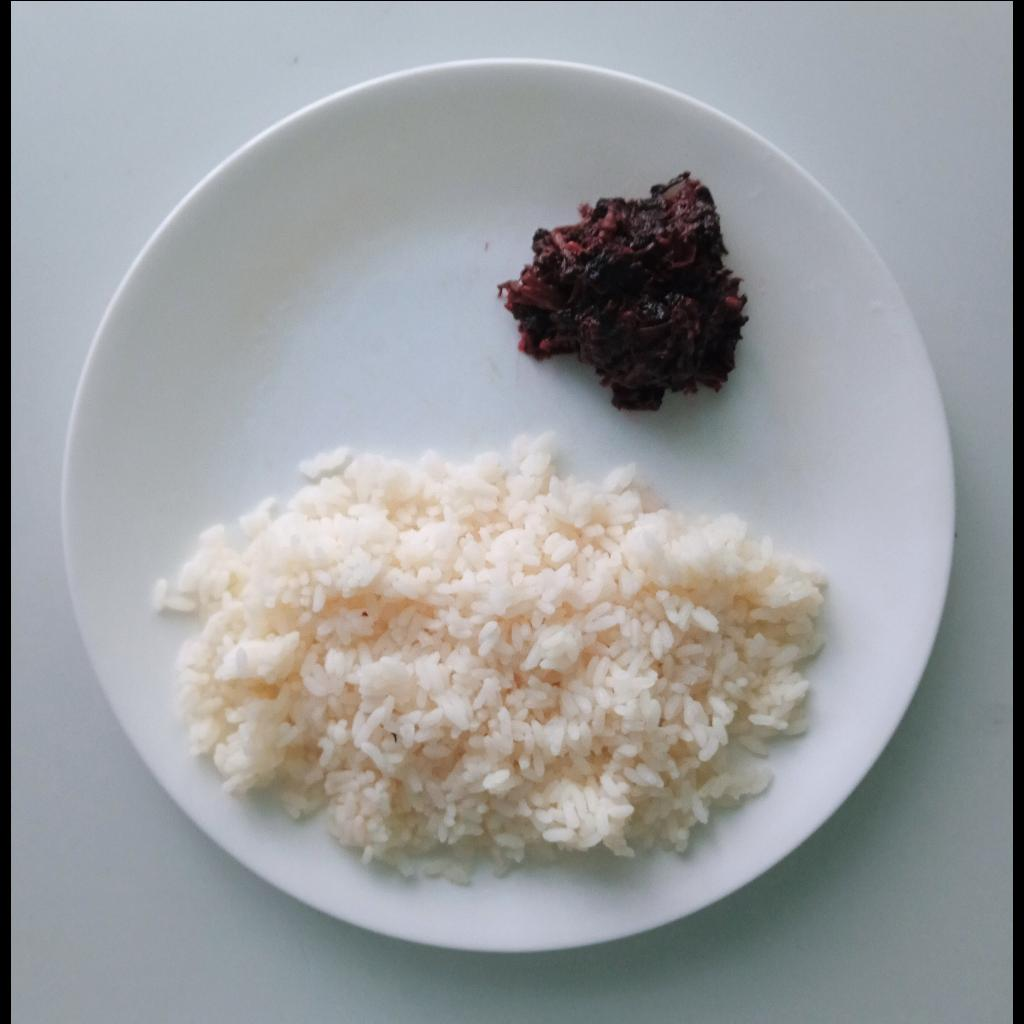rice: (137, 450, 825, 863)
shak: (495, 169, 759, 407)
